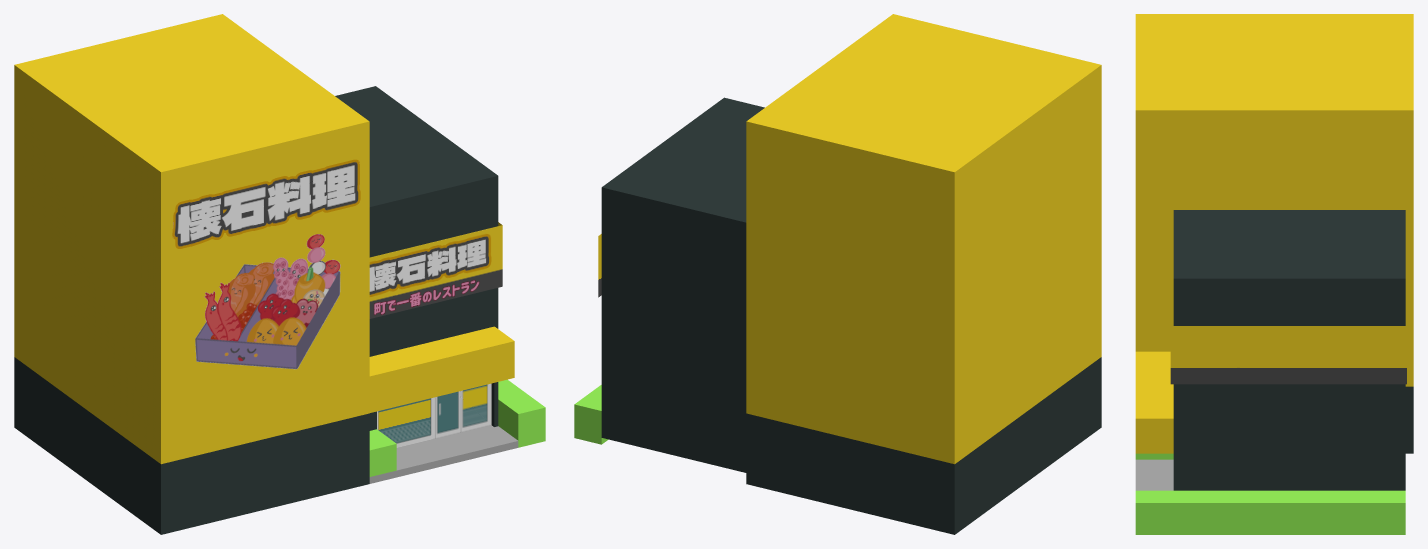
The model's file is Town_Bld_Sushi_C.FBX.
The picture shows the model from 3 angles, left to right: view 1: azimuth 30°, elevation 25°; view 2: azimuth 150°, elevation 25°; view 3: azimuth 270°, elevation 25°; orthographic projection. The views are drawn at different scales.
Visible parts, largest first — view 1: Town_Bld_Sushi_C; view 2: Town_Bld_Sushi_C; view 3: Town_Bld_Sushi_C.
Part boxes in pixels (box(x1,y1,x2,y2)): Town_Bld_Sushi_C: box(14, 14, 545, 534); Town_Bld_Sushi_C: box(574, 14, 1101, 534); Town_Bld_Sushi_C: box(1135, 14, 1413, 534).
Bounding box in the file's own units: 923 × 831 × 622.
